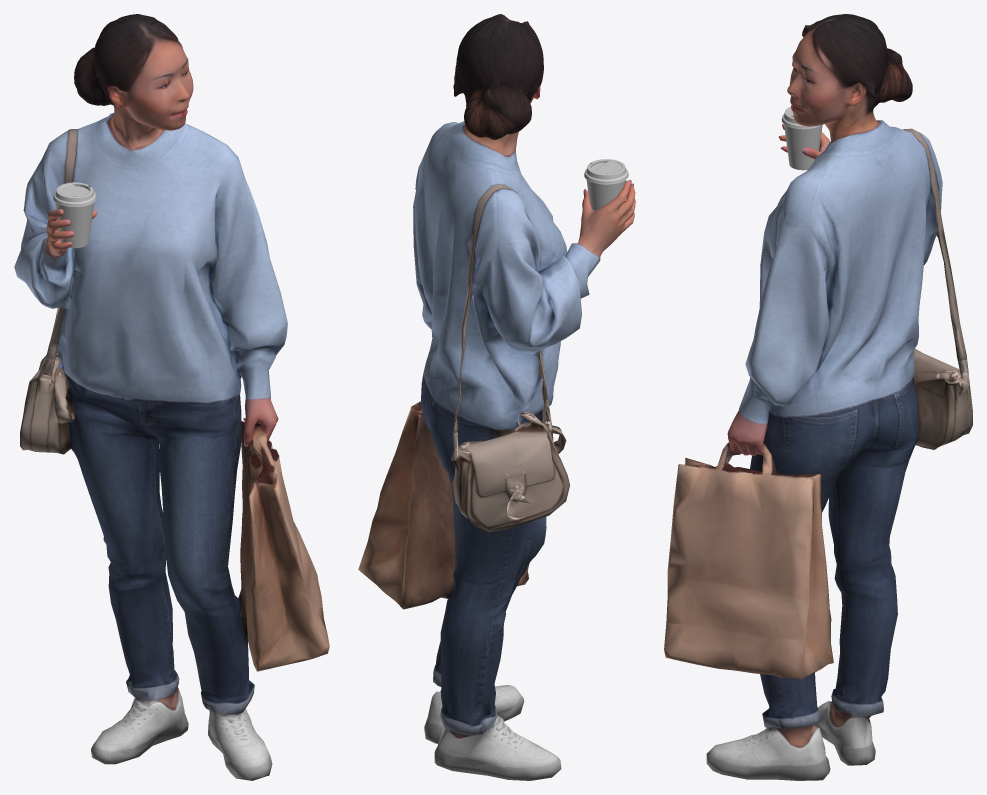
The model's file is Humano_Posed_0835341-Woman_01_LOD2.fbx.
3 views of the same model, side by side, from view 1: azimuth 30°, elevation 25°; view 2: azimuth 150°, elevation 25°; view 3: azimuth 270°, elevation 25° (orthographic). The views are drawn at different scales.
Visible parts, largest first — view 1: Humano_Posed_0835341-Woman_01_LOD2, Humano_Posed_0835341-Woman_Accessories-01_01_LOD2; view 2: Humano_Posed_0835341-Woman_01_LOD2, Humano_Posed_0835341-Woman_Accessories-01_01_LOD2; view 3: Humano_Posed_0835341-Woman_01_LOD2, Humano_Posed_0835341-Woman_Accessories-01_01_LOD2.
Boxes of the visible parts, x1=… form: Humano_Posed_0835341-Woman_01_LOD2: x1=14, y1=14, x2=329, y2=780; Humano_Posed_0835341-Woman_Accessories-01_01_LOD2: x1=53, y1=182, x2=96, y2=248; Humano_Posed_0835341-Woman_01_LOD2: x1=358, y1=14, x2=635, y2=780; Humano_Posed_0835341-Woman_Accessories-01_01_LOD2: x1=584, y1=159, x2=628, y2=210; Humano_Posed_0835341-Woman_01_LOD2: x1=664, y1=14, x2=972, y2=780; Humano_Posed_0835341-Woman_Accessories-01_01_LOD2: x1=781, y1=106, x2=822, y2=170.
Bounding box in the file's own units: 63.14 × 164 × 63.36.
